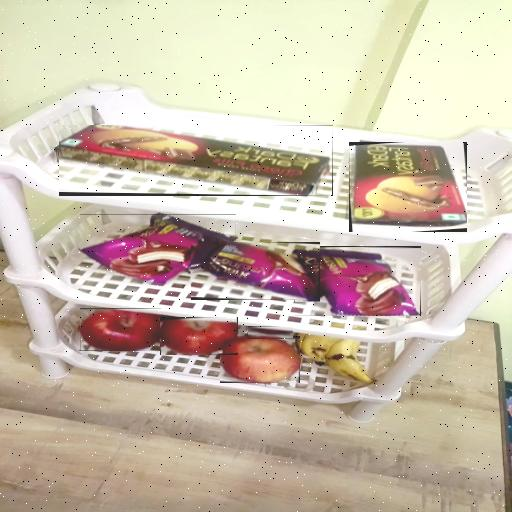Apple: (220, 336, 300, 383), (78, 308, 160, 351), (160, 317, 238, 355), (246, 326, 292, 339)
Choco Fills: (58, 125, 332, 196), (349, 142, 467, 232)
Choco Pie: (80, 214, 236, 285), (295, 246, 421, 316), (191, 242, 320, 300)
